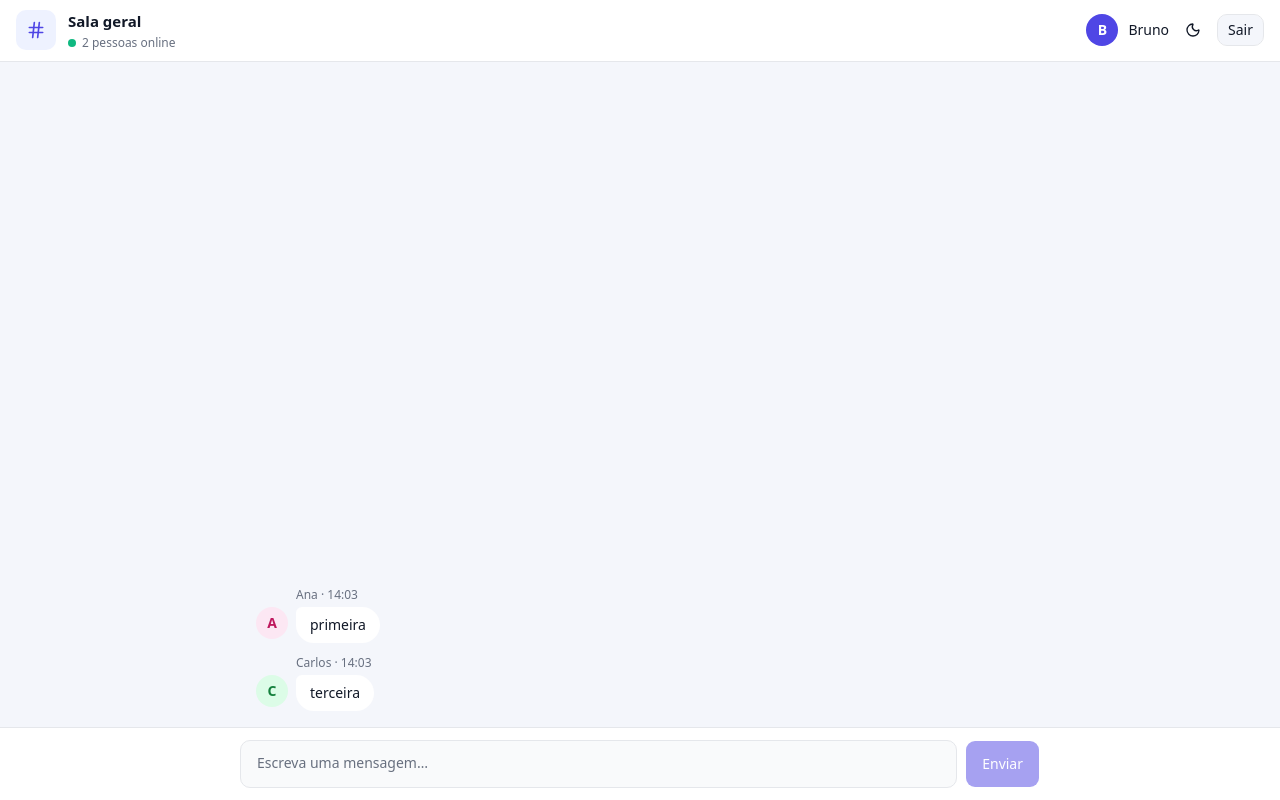
Test case: ChatStream › envio otimista (OPT-01, RATE-02) › ok: false → "Não enviada · Tentar de novo" e nenhum aviso no Composer (AC4)
Step 1. Type "olá" into the text box labelled "mensagem" → (599, 764), box [240,740,957,788]
Then press Enter
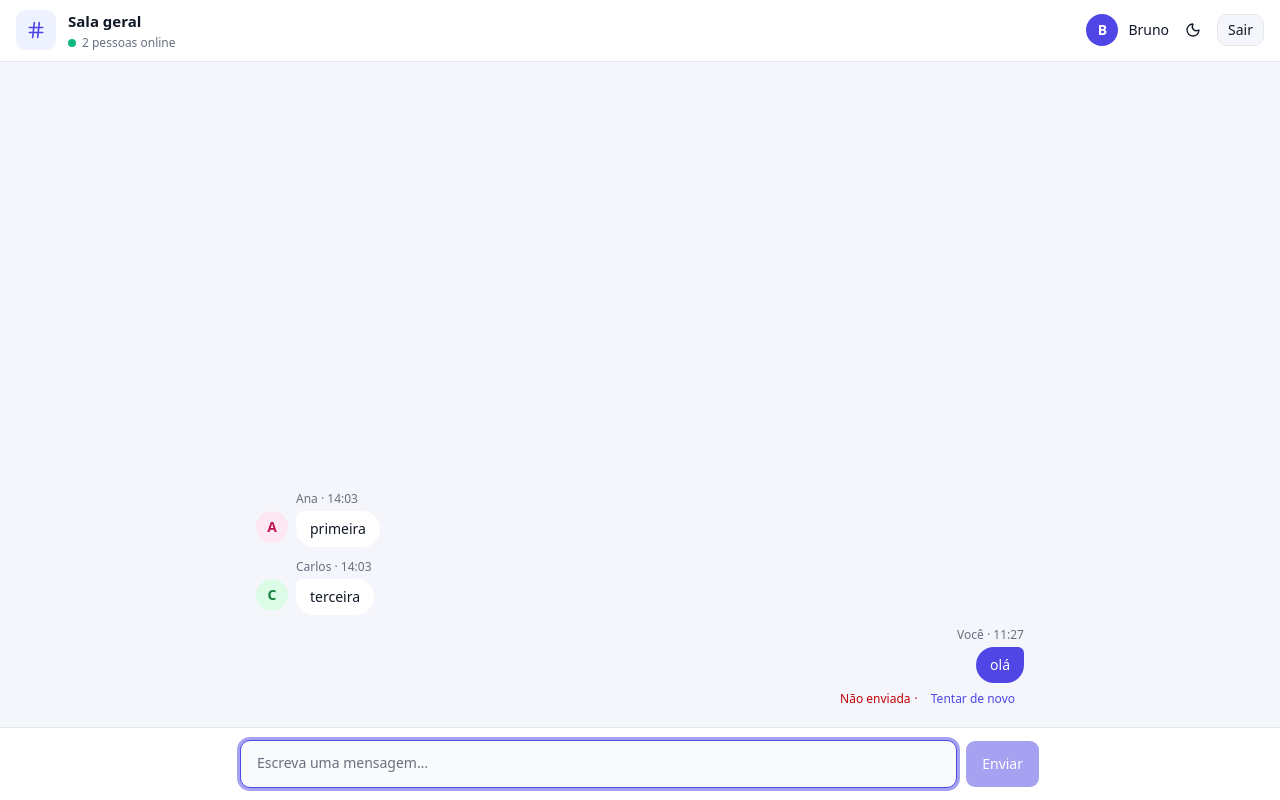
Check: the text "Não enviada" is shown, box [840,690,911,707]
Check: the button "Tentar de novo" is shown, box [922,687,1024,711]
